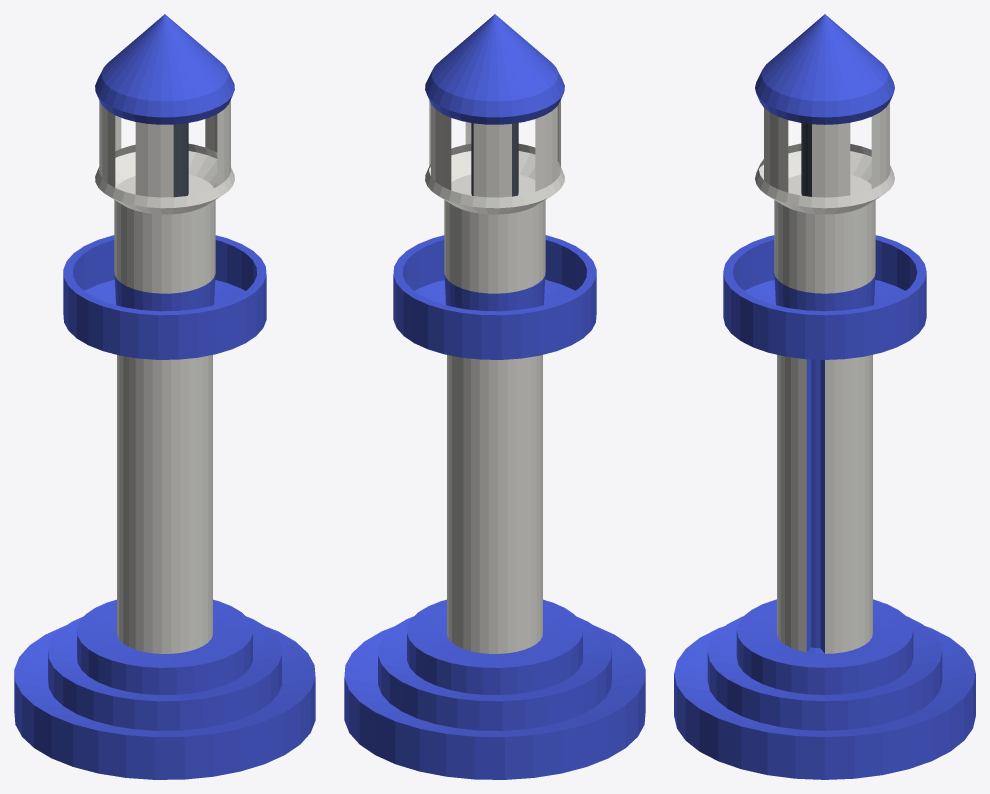
Rendered from lighthouse.obj.
The picture shows the model from 3 angles, left to right: view 1: azimuth 30°, elevation 25°; view 2: azimuth 150°, elevation 25°; view 3: azimuth 270°, elevation 25°; orthographic projection.
Parts seen in each view (by area): view 1: lighthouse; view 2: lighthouse; view 3: lighthouse.
Boxes of the visible parts, left/top/right/bottom form: lighthouse: left=14, top=14, right=315, bottom=779; lighthouse: left=344, top=14, right=645, bottom=779; lighthouse: left=674, top=14, right=975, bottom=779.
Size of the model in its own units: 2.59 by 6.64 by 2.59.
